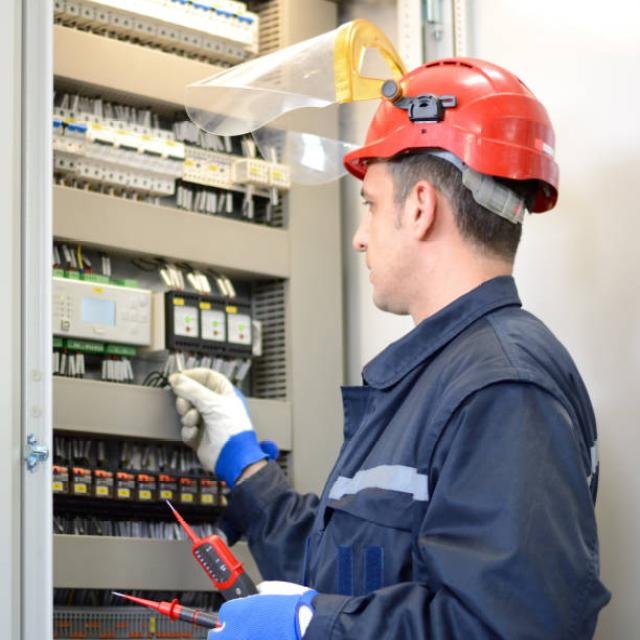gloves: (168, 366, 268, 486), (207, 582, 317, 640)
